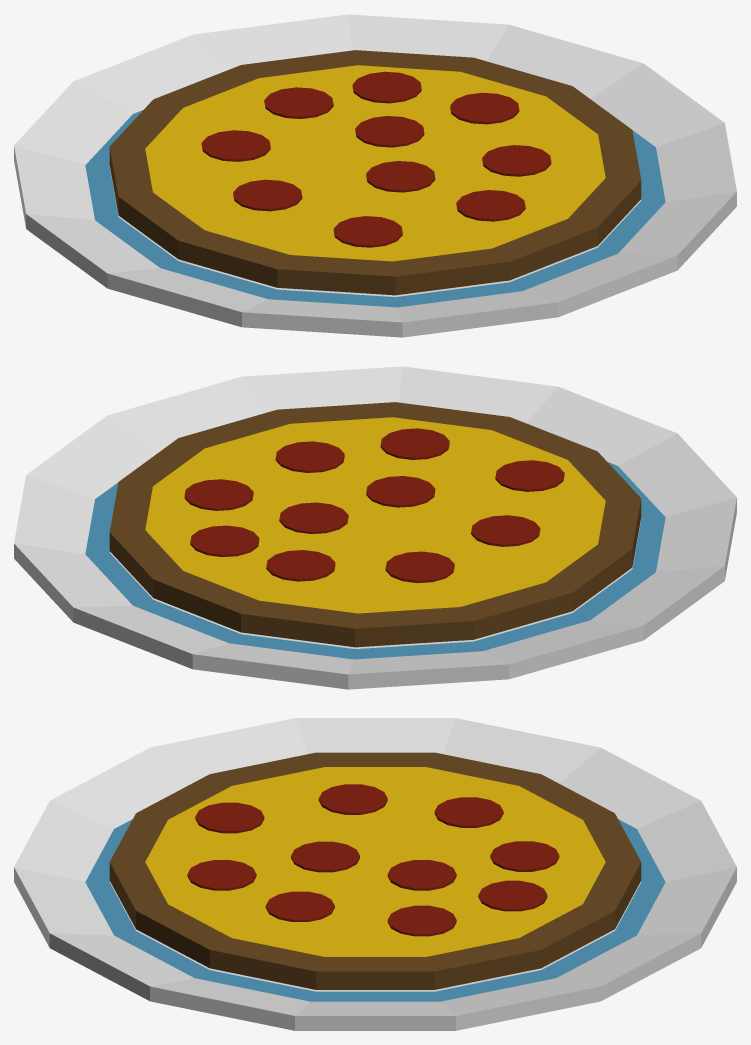
The model's file is PizzaOnPlate.fbx.
The picture shows the model from 3 angles, top to bottom: view 1: azimuth 30°, elevation 25°; view 2: azimuth 150°, elevation 25°; view 3: azimuth 270°, elevation 25°; orthographic projection.
Parts seen in each view (by area): view 1: Pizza_On_Plate; view 2: Pizza_On_Plate; view 3: Pizza_On_Plate.
Part boxes in pixels (bbox=[...]): Pizza_On_Plate: bbox=[14, 14, 736, 337]; Pizza_On_Plate: bbox=[14, 366, 736, 689]; Pizza_On_Plate: bbox=[14, 718, 736, 1030].
Size of the model in its own units: 1267 by 81.91 by 1300.
Materials: 1 (1 with a texture image).
